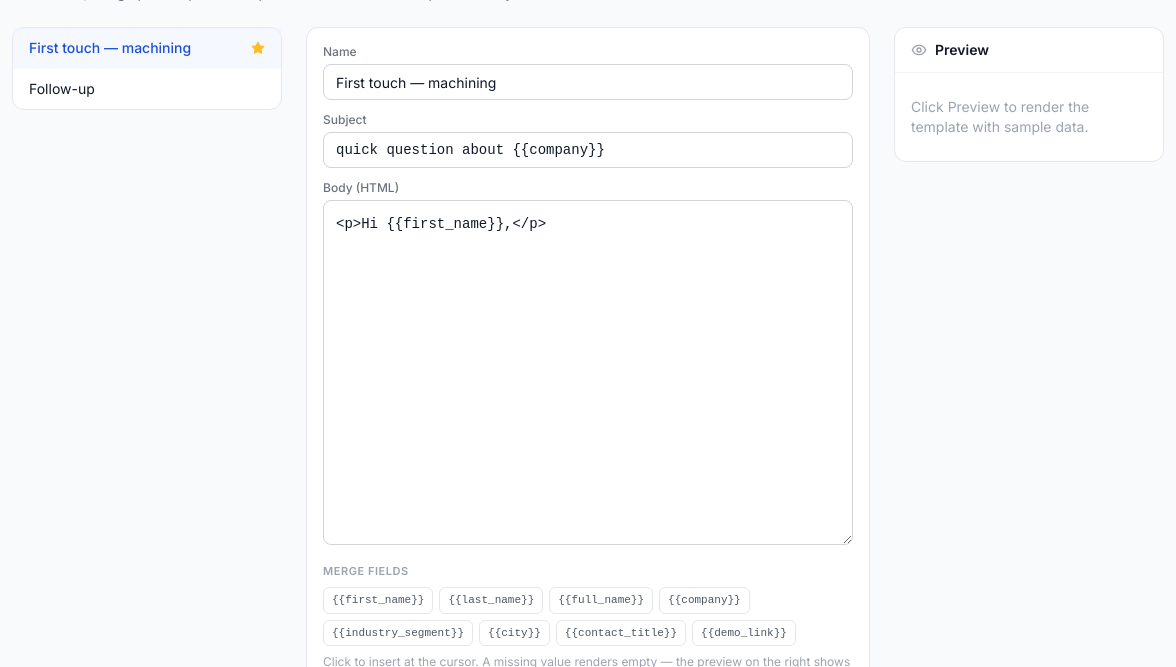
Test: EmailTemplates › save is disabled until something changes
In the field labelled "Subject": (588, 150) [323,132,853,168], type "new subject"
(page scrolled)
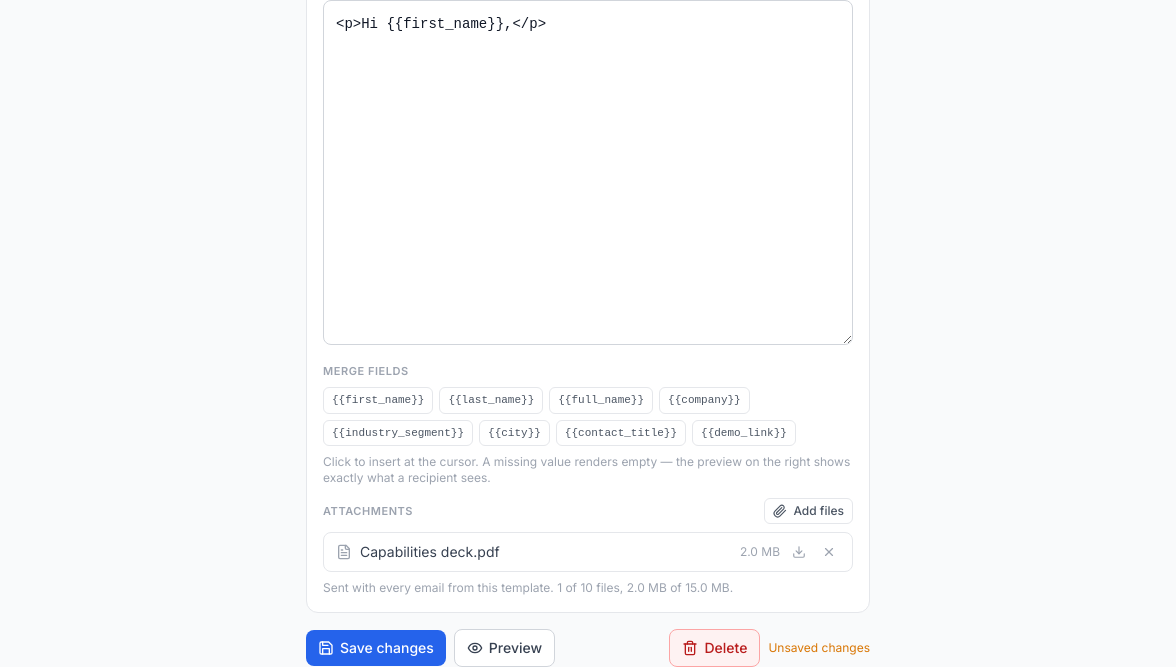
Expected: the button "Save changes" is enabled, [306,630,446,666]
